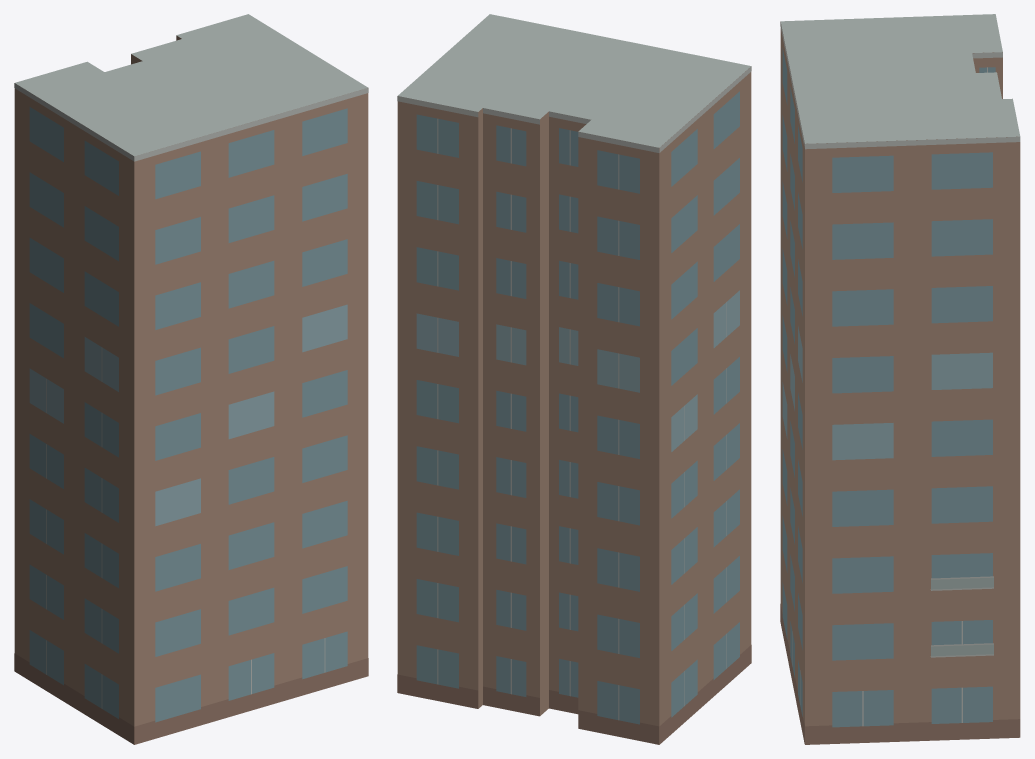
Rendered from survey-upis-32633807.glb.
The picture shows the model from 3 angles, left to right: view 1: azimuth 30°, elevation 25°; view 2: azimuth 150°, elevation 25°; view 3: azimuth 270°, elevation 25°; orthographic projection. The views are drawn at different scales.
Visible parts, largest first — view 1: survey-upis-32633807.tmp; view 2: survey-upis-32633807.tmp; view 3: survey-upis-32633807.tmp.
Boxes of the visible parts, x1,y1,x2,y2 form: survey-upis-32633807.tmp: (14,14,368,744); survey-upis-32633807.tmp: (397,14,751,744); survey-upis-32633807.tmp: (780,14,1020,744).
Bounding box in the file's own units: 12.66 × 27.3 × 9.88.
